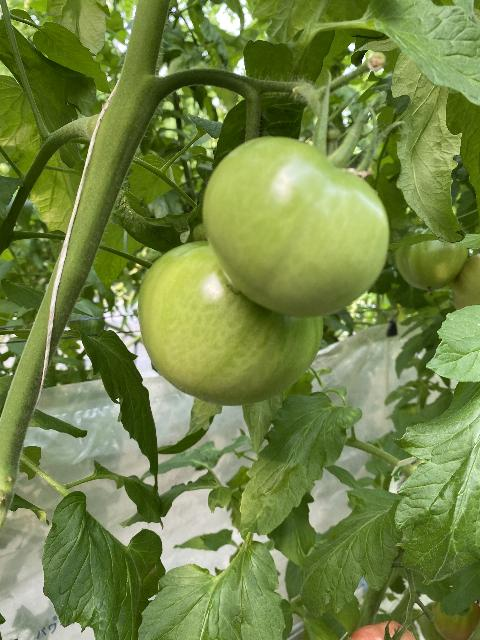b_green: (203, 136, 389, 319), (137, 239, 325, 407), (394, 228, 470, 290), (451, 254, 480, 309)
